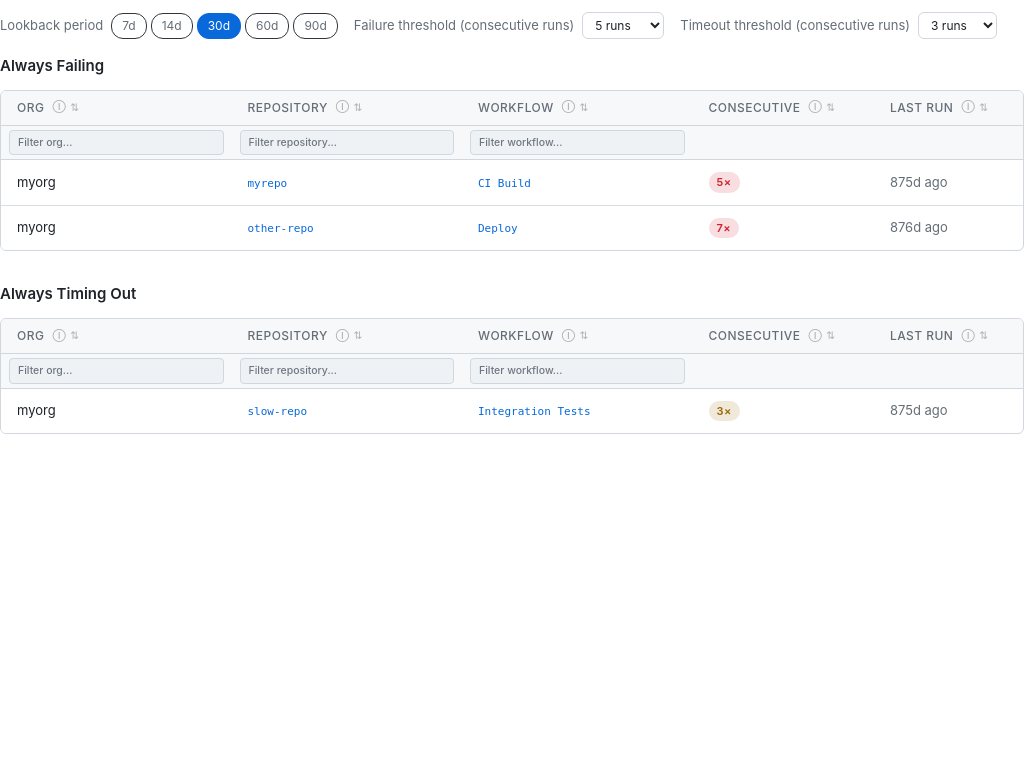
Test: WorkflowMetricsTab — With Data › closes drawer when close button is clicked
The width and height of the screenshot is (1024, 768).
Step 1. Click the text "CI Build" → (512, 183), box [1,160,1023,205]
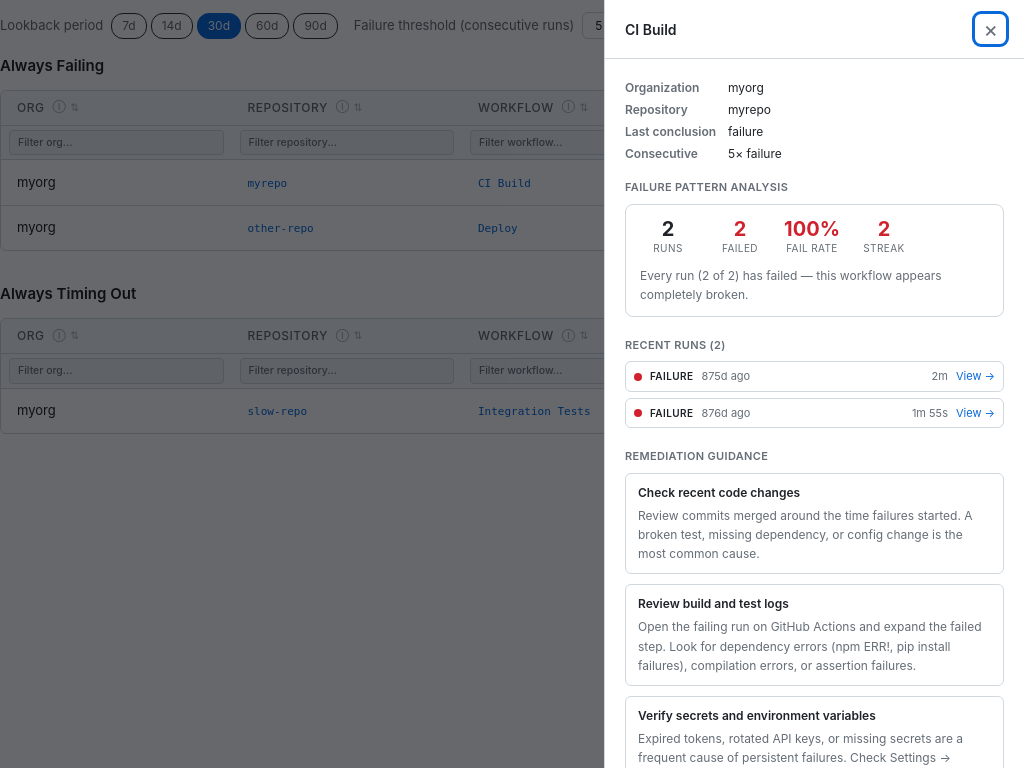
Check: the text "Failure Pattern Analysis" is shown, box [625,180,788,194]
Click the close button
Step 2. Click the button named "close" → (991, 29), box [977,16,1004,42]
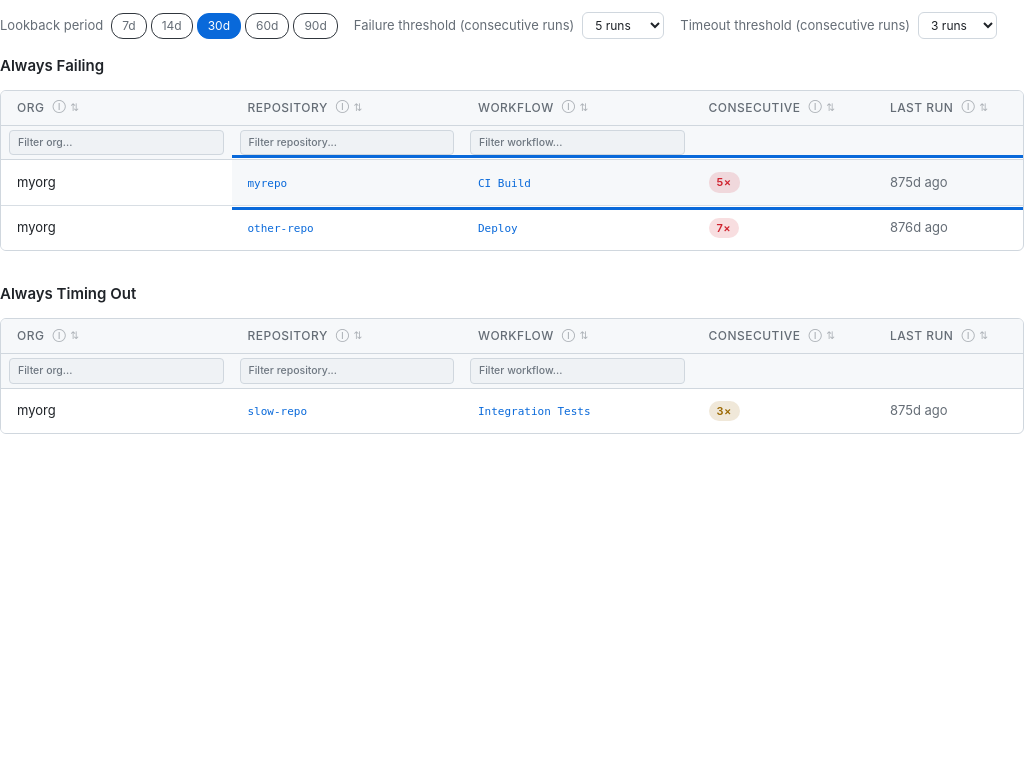
Check: the text "Failure Pattern Analysis" is gone
